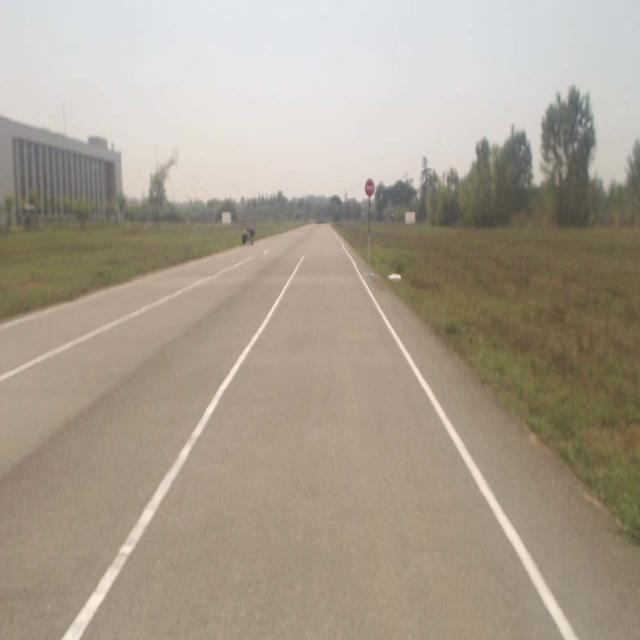girisyok: (366, 180, 374, 196)
